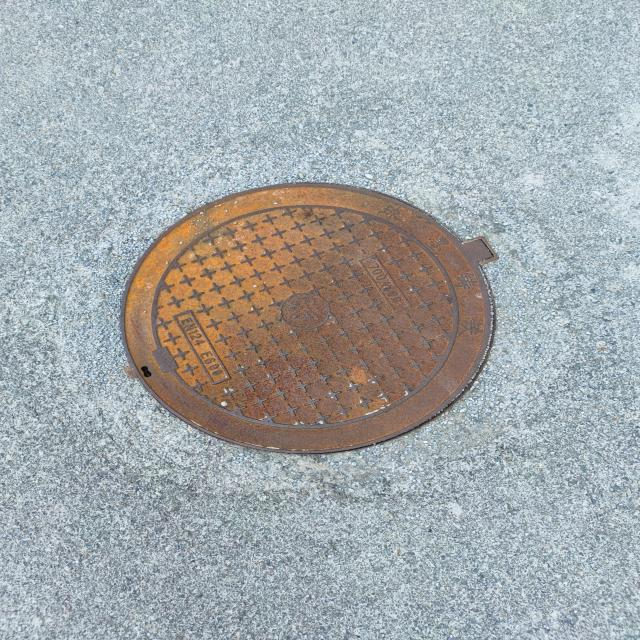Good: (107, 178, 511, 462)
